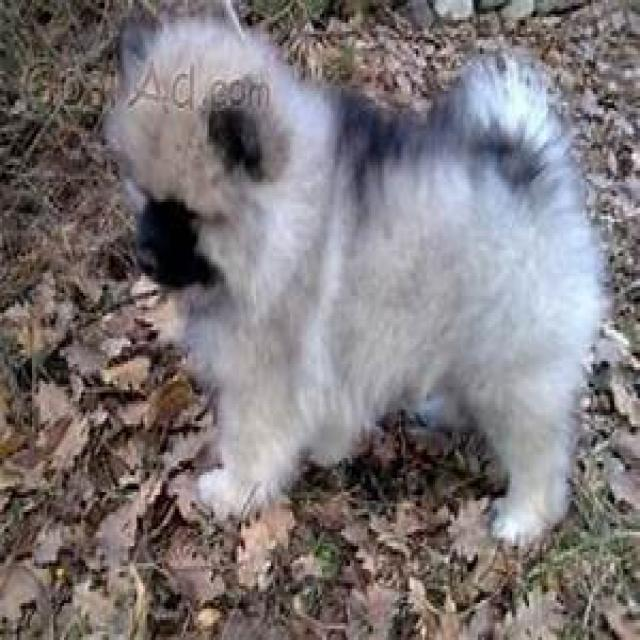animal: (106, 20, 598, 548)
